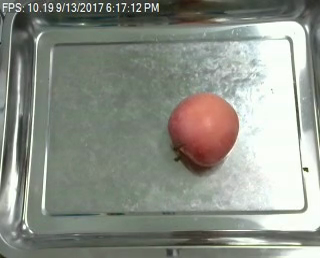Apple: (166, 91, 239, 166)
